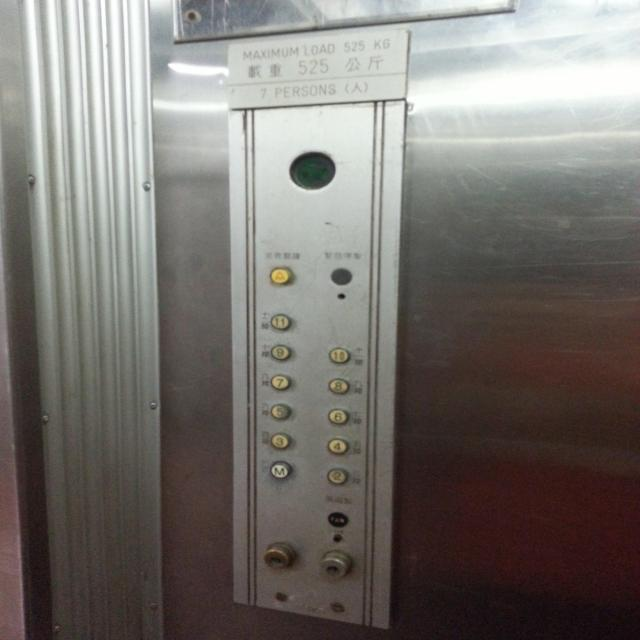10: (329, 348, 349, 363)
11: (270, 313, 290, 330)
2: (326, 466, 348, 486)
3: (270, 432, 290, 450)
4: (327, 437, 348, 454)
5: (270, 403, 290, 420)
6: (328, 408, 349, 426)
7: (270, 374, 290, 391)
8: (328, 377, 350, 395)
9: (270, 343, 291, 361)
M: (269, 461, 292, 479)
alarm: (269, 267, 293, 285)
blur: (288, 149, 337, 191)
empty: (329, 267, 353, 285)
keyhole: (263, 542, 295, 570), (321, 551, 351, 579)
text_FAN: (326, 511, 348, 528)
